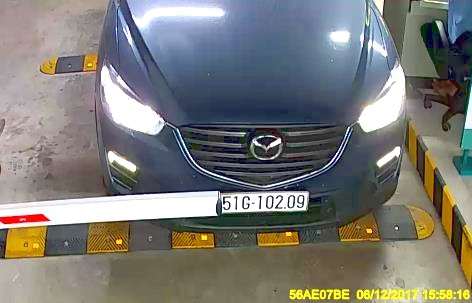plate: (218, 185, 312, 218)
